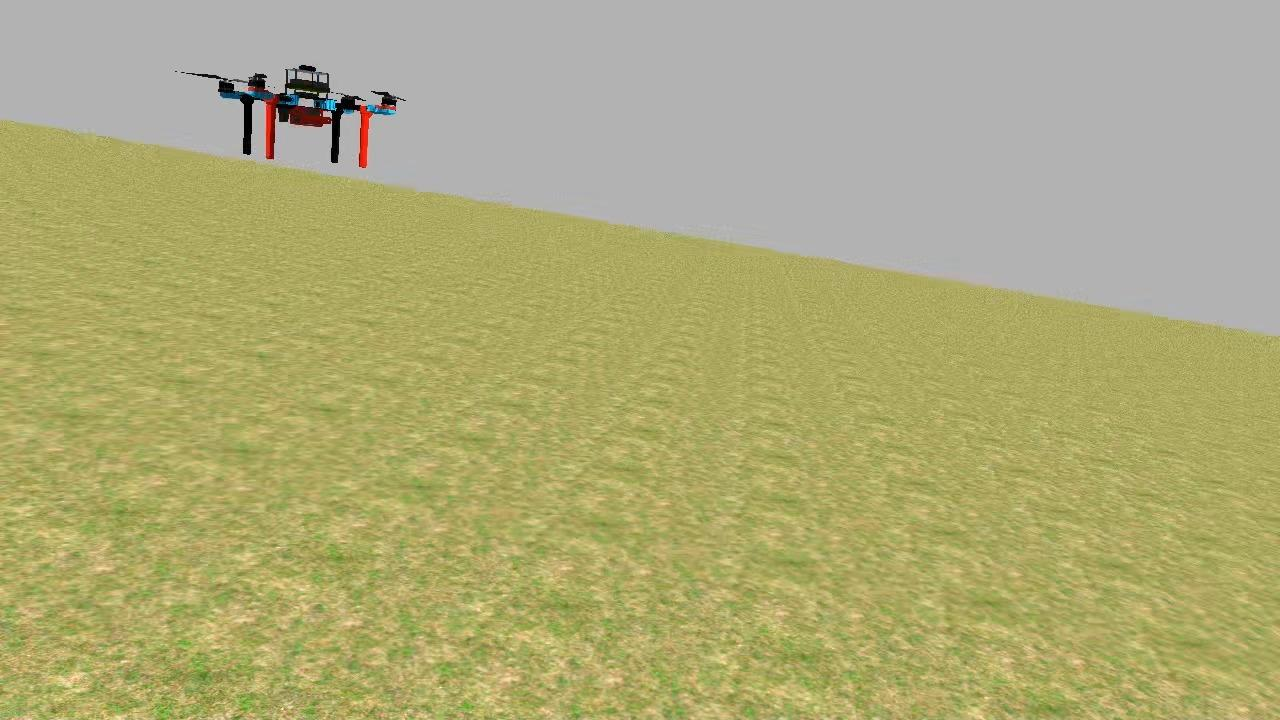UAV: (210, 58, 404, 174)
